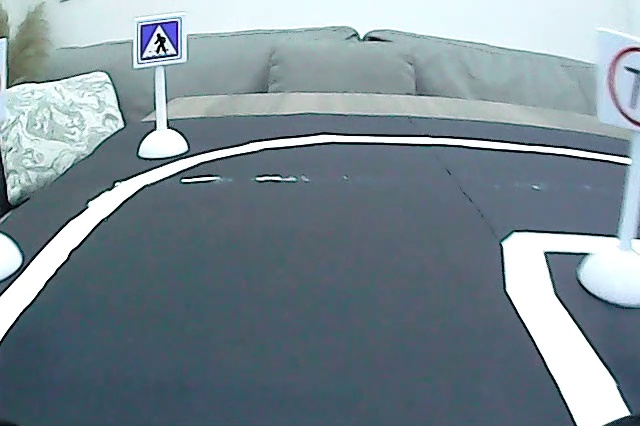pedestrian crossing: (135, 17, 183, 61)
